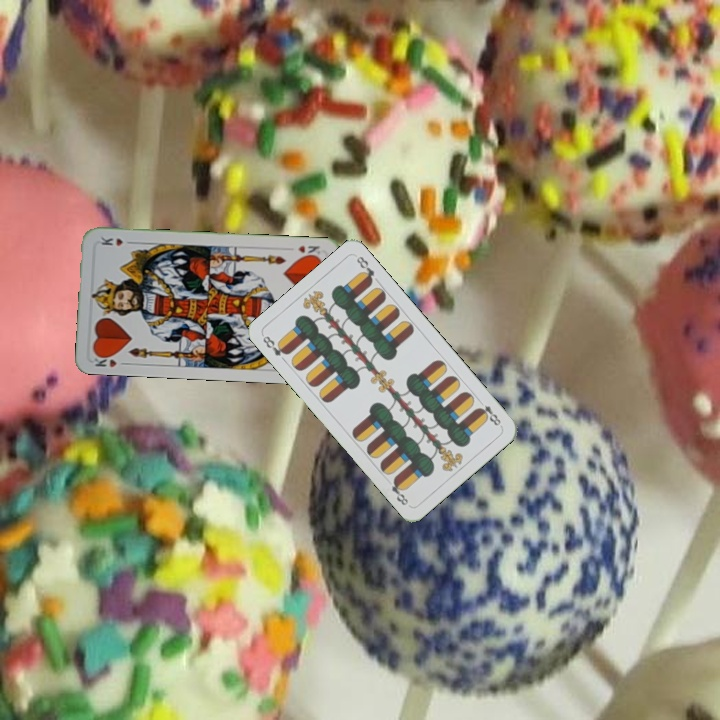E8: (473, 395, 504, 429), (259, 332, 292, 359)
HK: (90, 350, 130, 370), (294, 241, 322, 260)
